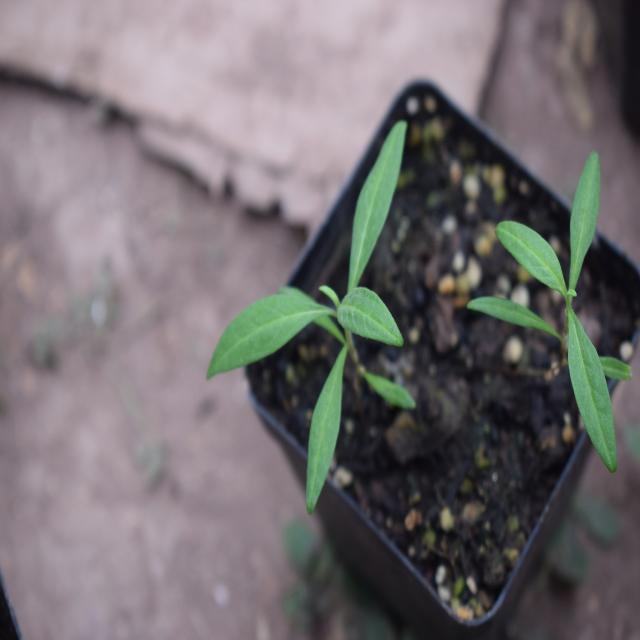white_smart_weed: (218, 137, 443, 518), (452, 129, 625, 480)
